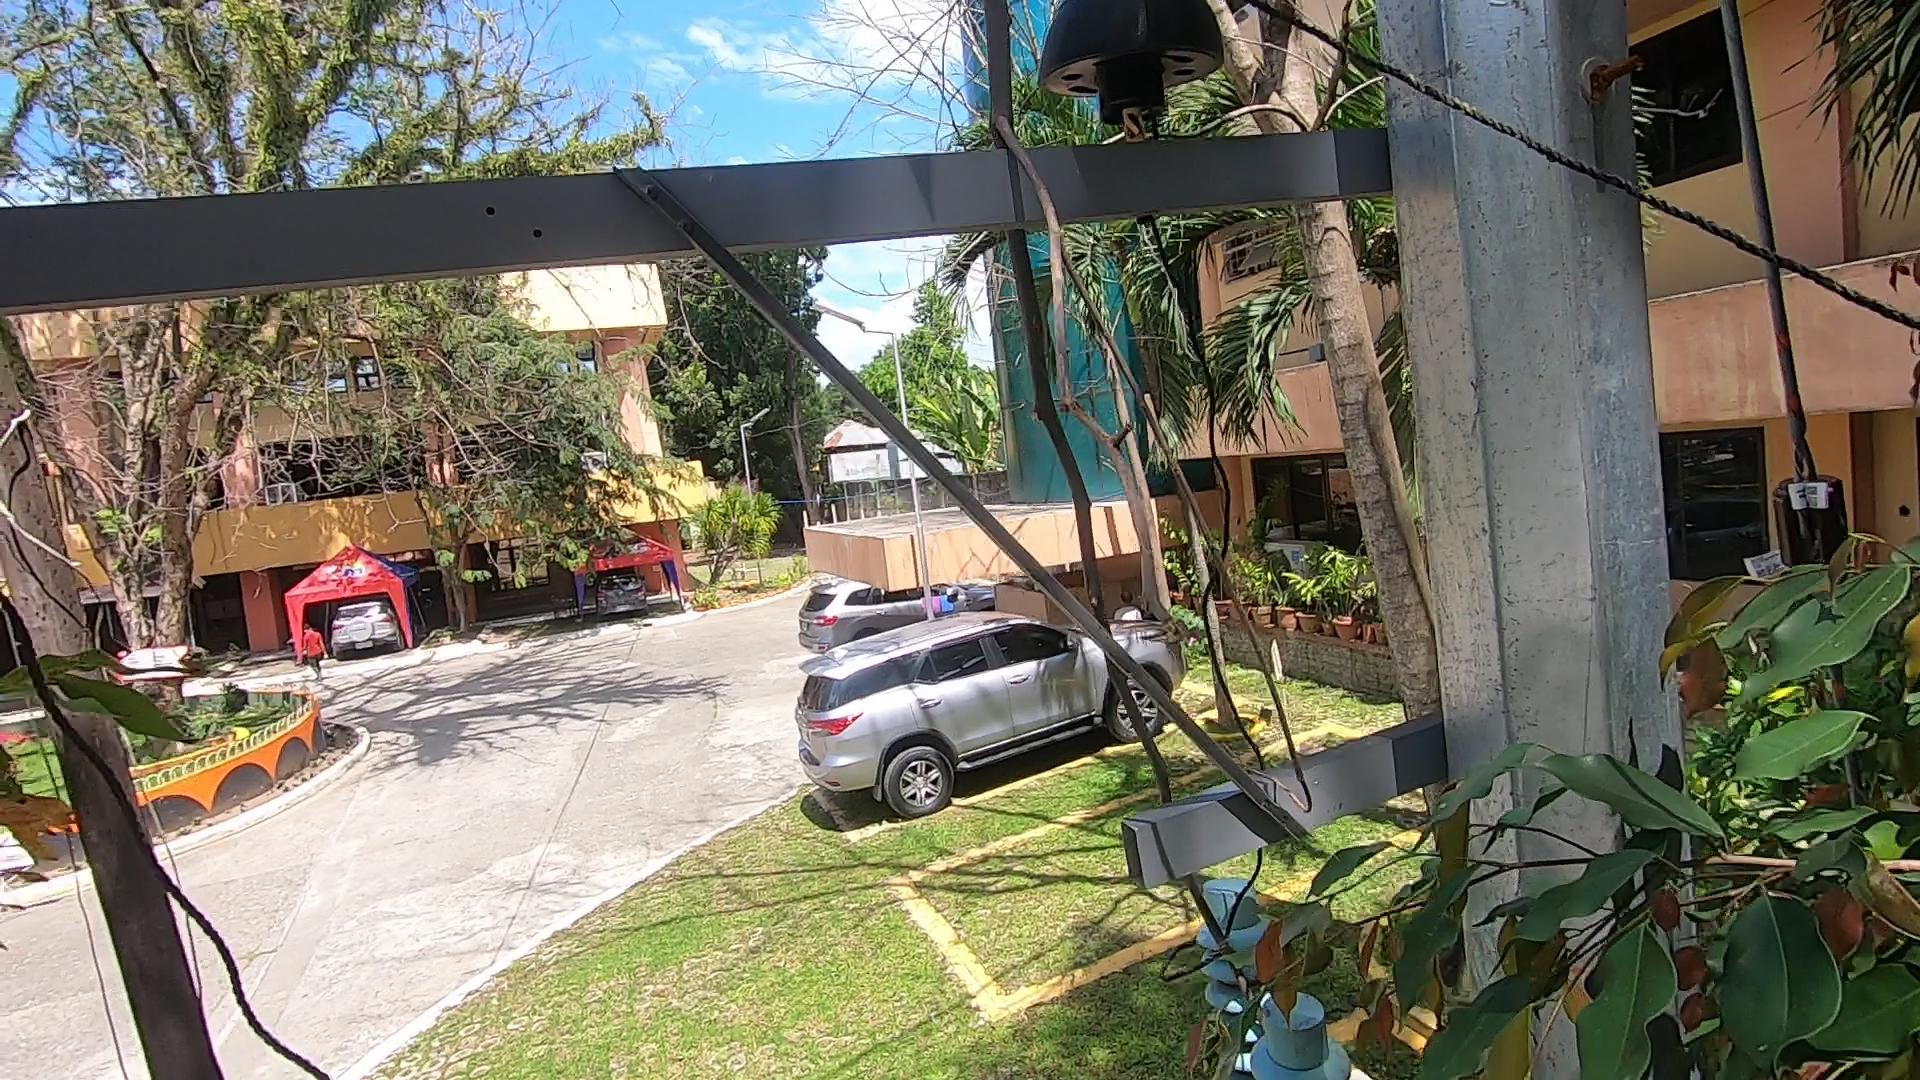branch with leaves: (1236, 862, 1578, 1080)
tree branch: (945, 11, 1251, 857)
